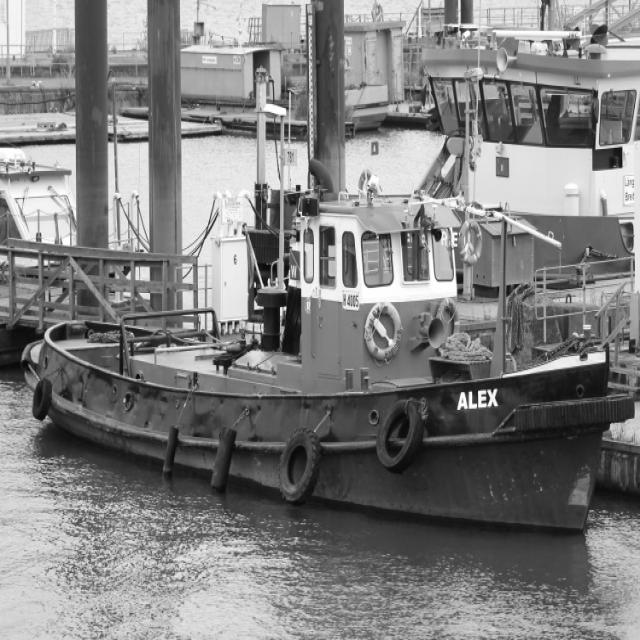tugboat: (18, 167, 639, 559)
